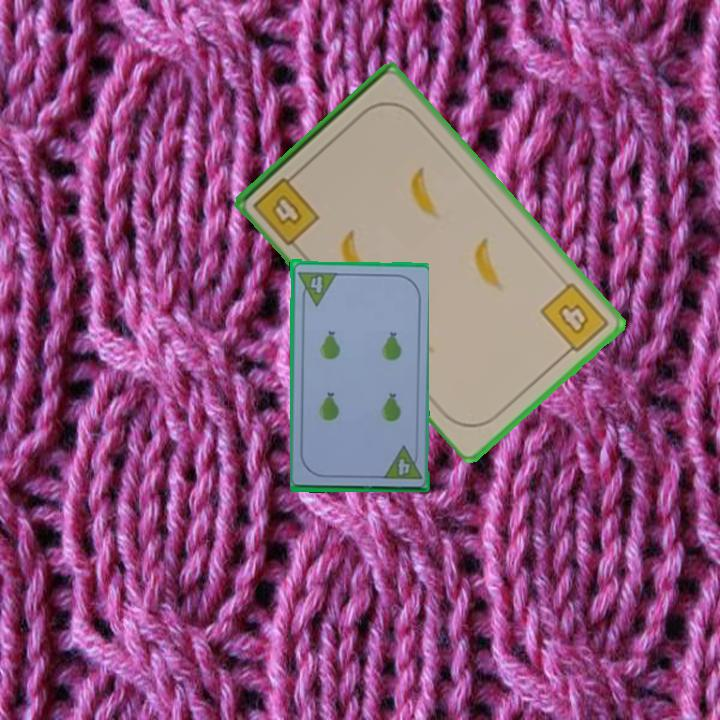4b: (537, 278, 612, 361), (249, 167, 323, 249)
4p: (294, 267, 338, 307), (380, 442, 424, 482)
